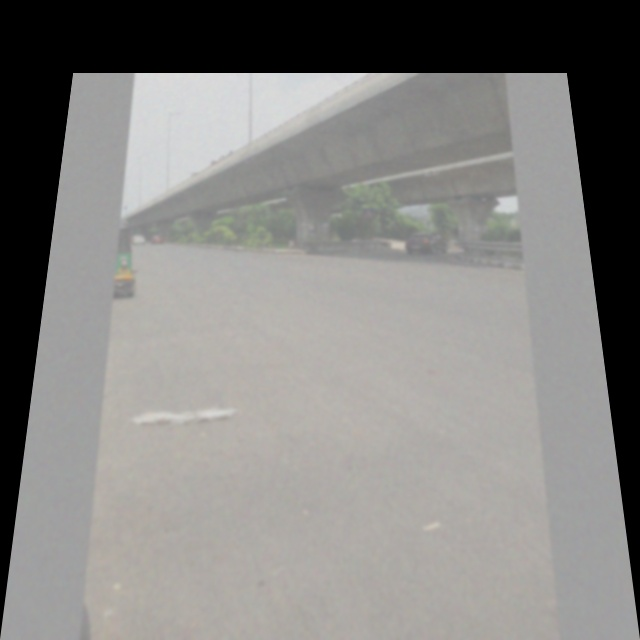Pedestrian_Crossing: (360, 205, 373, 218)
